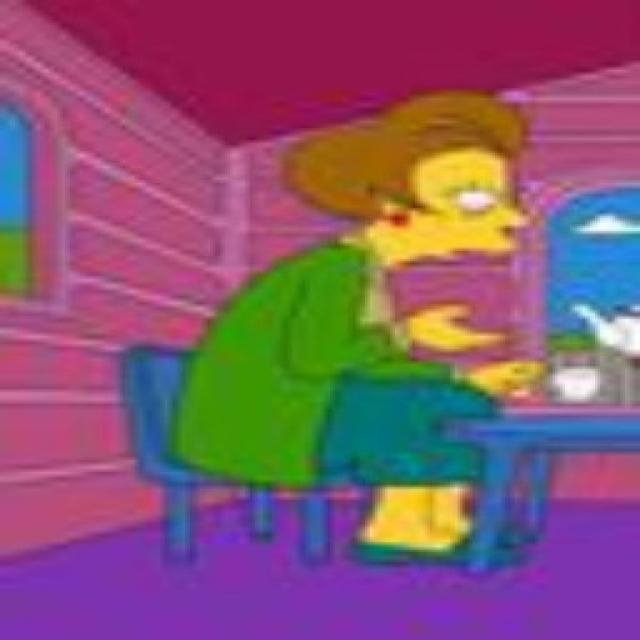Edna Krappel: (285, 88, 530, 274)
